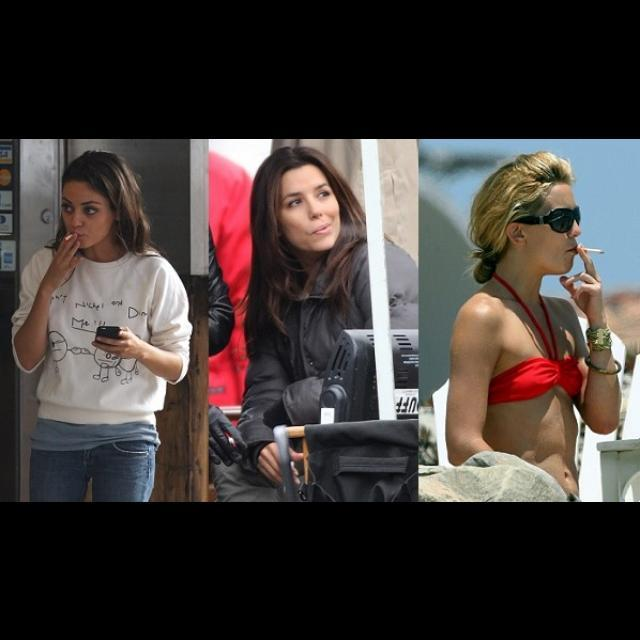rokok: (574, 241, 604, 257), (64, 232, 76, 244)
